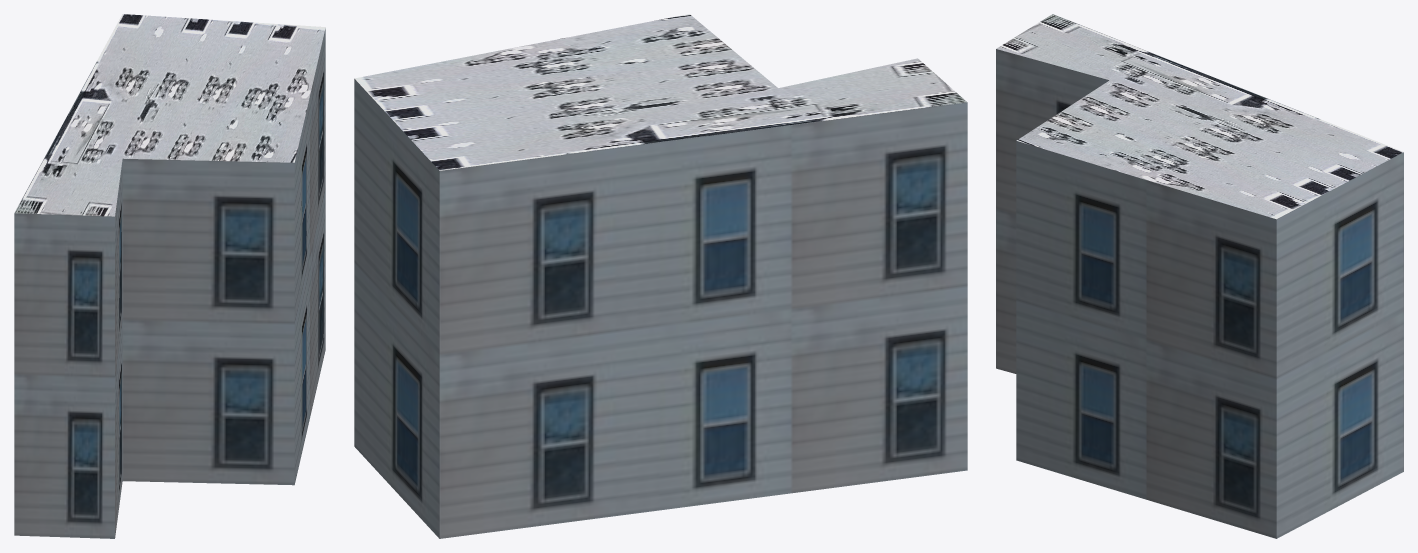
The model's file is ResTex__3751.fbx.
3 views of the same model, side by side, from view 1: azimuth 30°, elevation 25°; view 2: azimuth 150°, elevation 25°; view 3: azimuth 270°, elevation 25° (orthographic). The views are drawn at different scales.
Visible parts, largest first — view 1: CityEngineMaterial_18_m, CityEngineMaterial_4_m; view 2: CityEngineMaterial_18_m, CityEngineMaterial_4_m; view 3: CityEngineMaterial_18_m, CityEngineMaterial_4_m.
Part boxes in pixels (bbox=[...]): CityEngineMaterial_18_m: bbox=[14, 28, 325, 538]; CityEngineMaterial_4_m: bbox=[14, 14, 325, 216]; CityEngineMaterial_18_m: bbox=[354, 79, 967, 538]; CityEngineMaterial_4_m: bbox=[354, 14, 966, 170]; CityEngineMaterial_18_m: bbox=[996, 49, 1403, 538]; CityEngineMaterial_4_m: bbox=[996, 14, 1403, 219].
Size of the model in its own units: 8.26 by 6 by 6.94.
2 materials, 2 textured.
